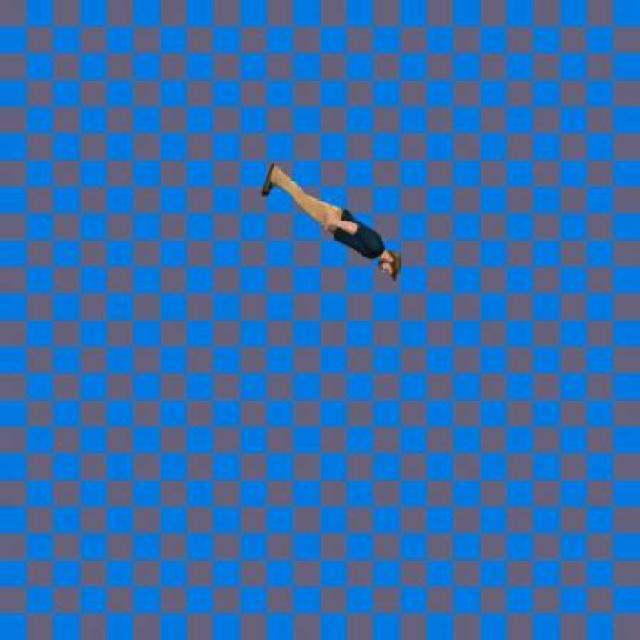Person: (261, 159, 404, 287)
